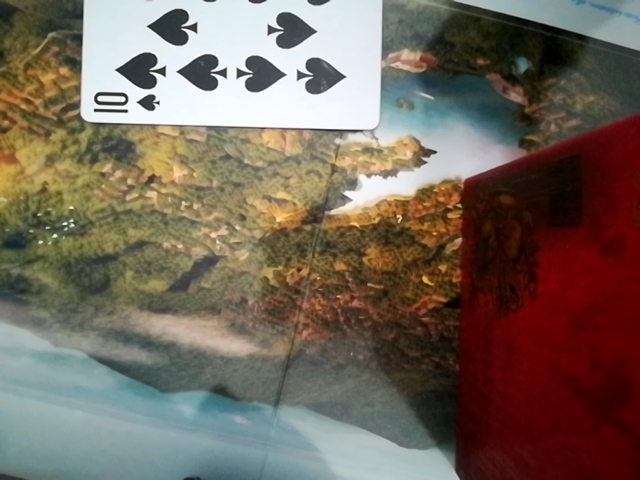ht 10: (69, 0, 389, 130)
